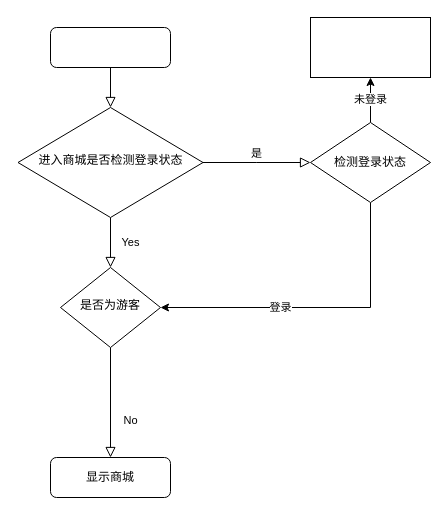
This 448x515 diagram has some shape labels left out. The shapes that lost their labels are listed below. From the top down, each one's centre as x and y in pixels, then its label:
point (110, 47): 点击进入商城
point (370, 47): 弹出登录弹窗
